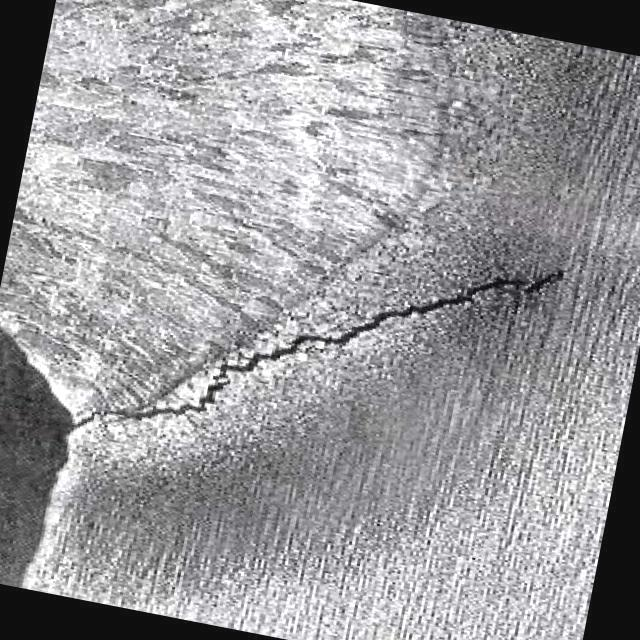defect: (72, 262, 585, 431)
